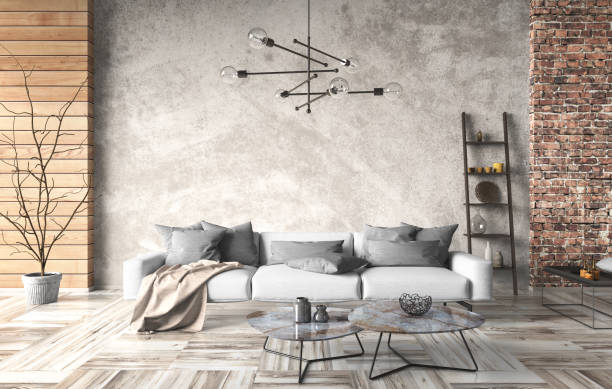large plant: (0, 39, 101, 306)
sofa: (119, 218, 495, 314)
table: (347, 298, 488, 382), (245, 301, 367, 386)
